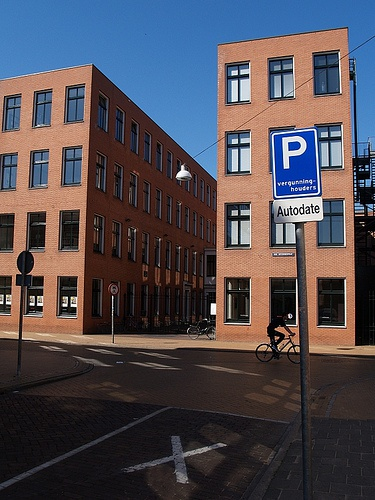non-vehicle: (255, 333, 300, 363), (186, 318, 215, 340)
